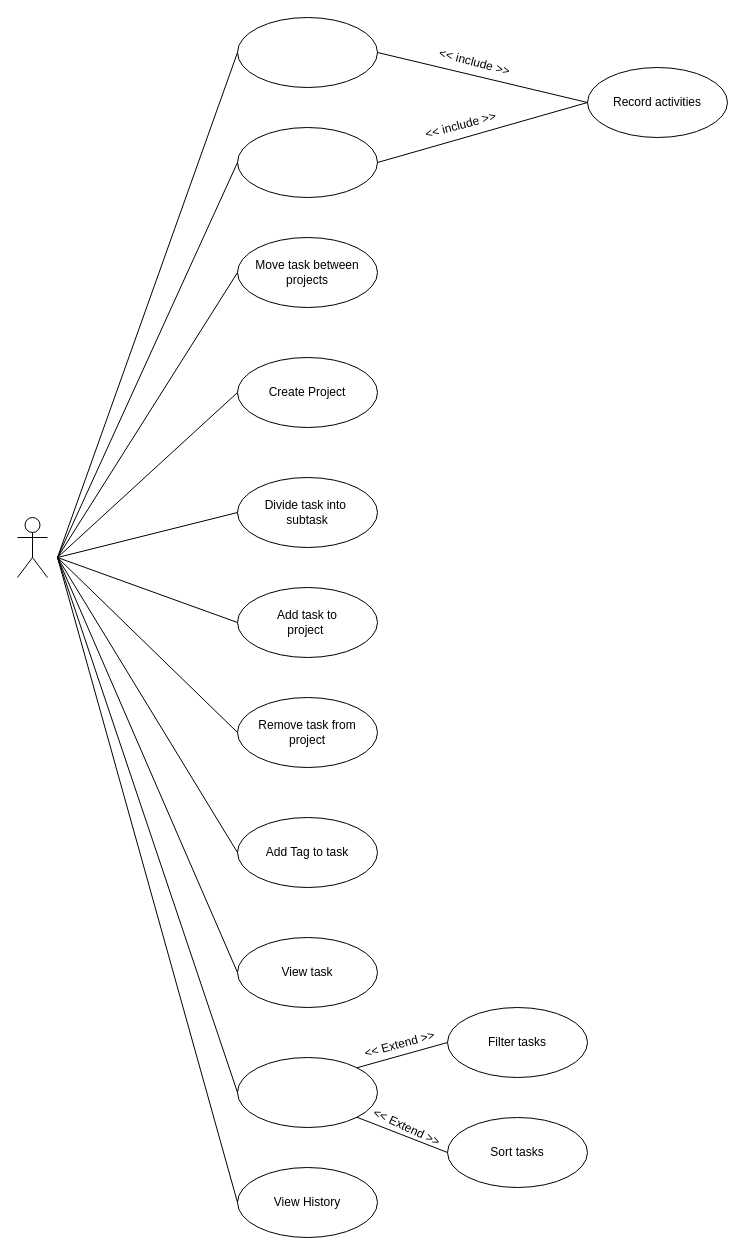
Image size: 745x1255. Some labels were removed from this diagram. The centre of each missing label's shape, as x and y in pixels:
Create task: the point at 307,52
Search task: the point at 307,1092
Update task: the point at 307,162
User: the point at 32,547
